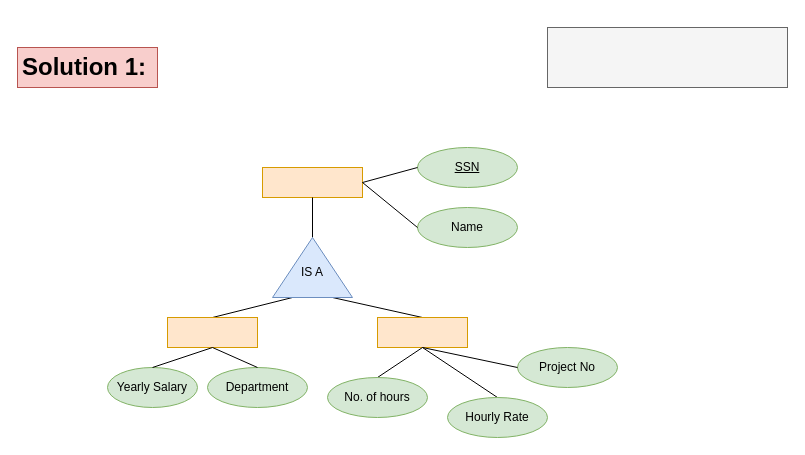
Image size: 805x455. Some labels were removed from this diagram. Here are the shapes that lost their labels. From the top down, the centre of each, then its label:
(x=667, y=57): Adhiraj Budukh abudukh@wpi.edu
(x=312, y=182): Staff
(x=212, y=332): Salaried
(x=422, y=332): Contract
